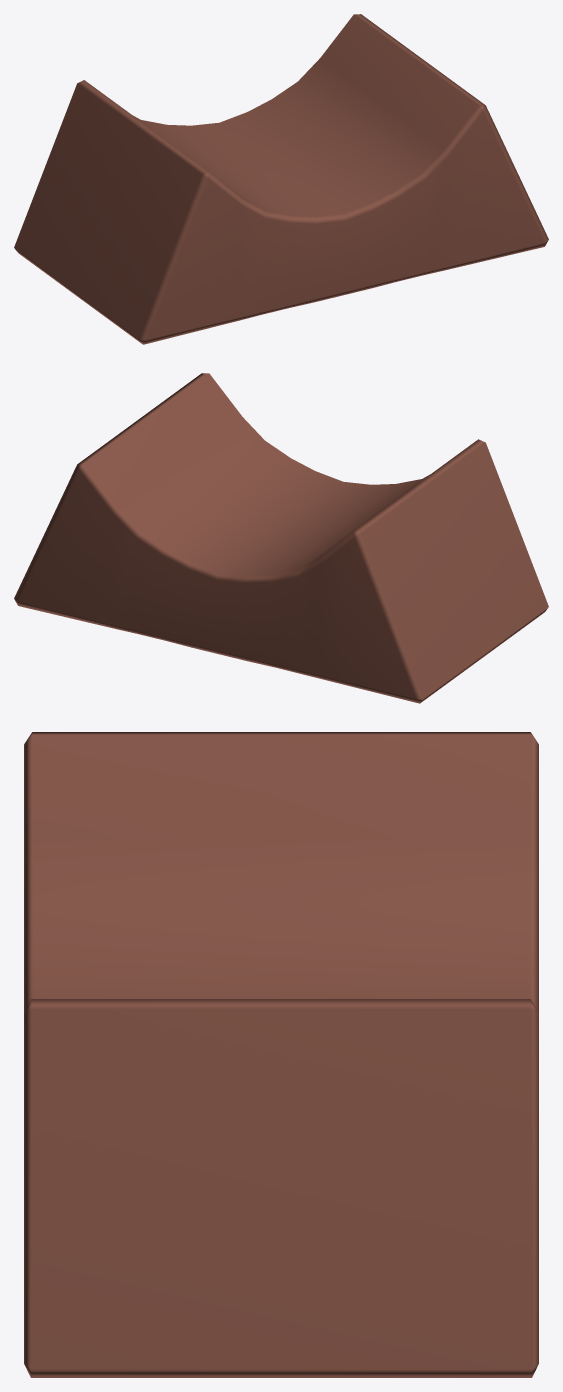
File: Store_16_Stand_barrel_1.glb
The picture shows the model from 3 angles, top to bottom: view 1: azimuth 30°, elevation 25°; view 2: azimuth 150°, elevation 25°; view 3: azimuth 270°, elevation 25°; orthographic projection. The views are drawn at different scales.
Parts seen in each view (by area): view 1: Store_16_Stand_barrel_1; view 2: Store_16_Stand_barrel_1; view 3: Store_16_Stand_barrel_1.
Part boxes in pixels (box(x1,y1,x2,y2)): Store_16_Stand_barrel_1: box(14, 14, 548, 344); Store_16_Stand_barrel_1: box(14, 373, 548, 703); Store_16_Stand_barrel_1: box(24, 732, 538, 1377).
Bounding box in the file's own units: 0.4828 × 0.177 × 0.2626.
Materials: 1 (1 with a texture image).
